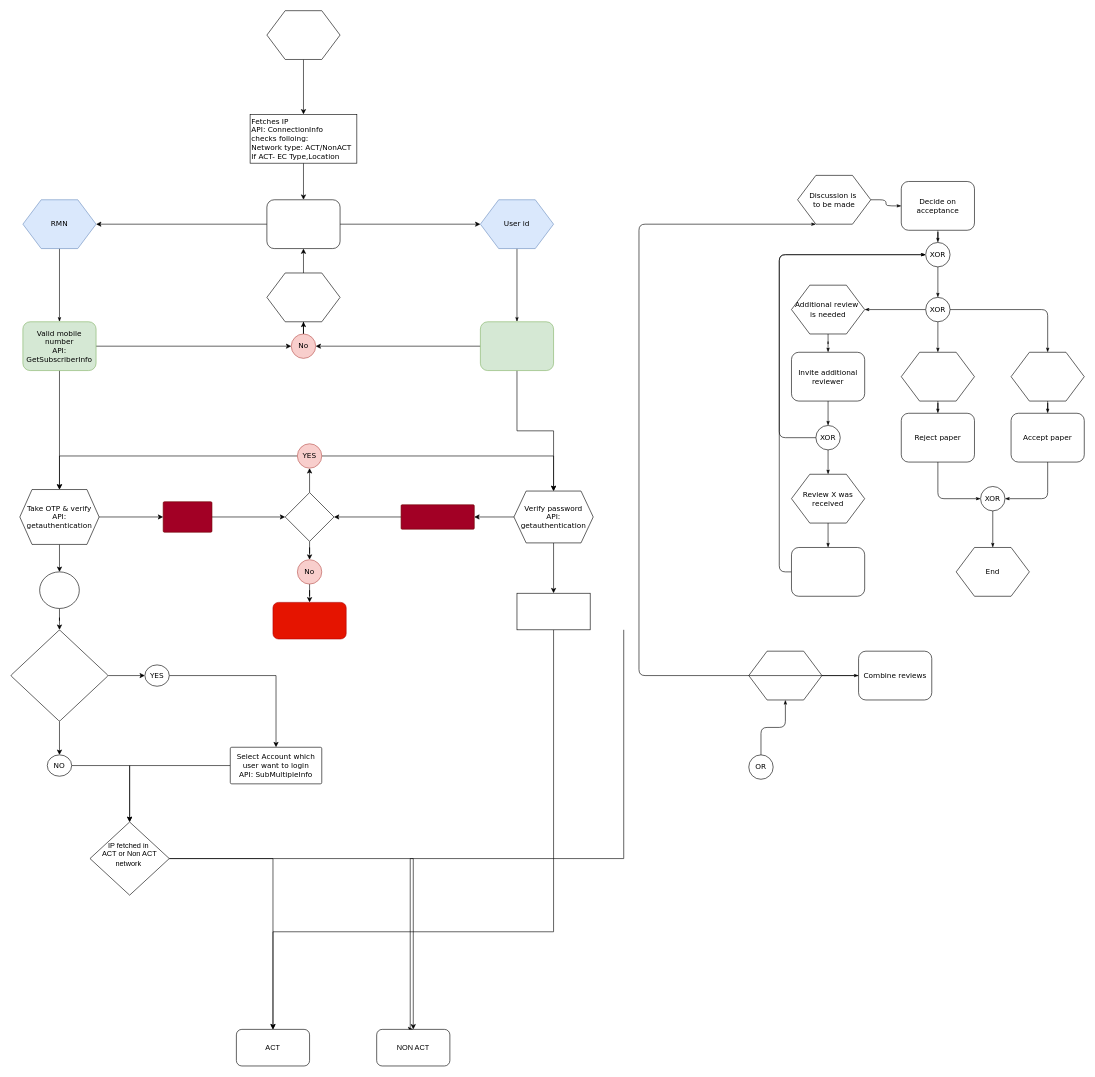
Some shapes in this 1095 by 1077 pixel diagram are drawn without their labels. The shapes that lost their labels are listed below. From the top down, each one's box as (x1, y1, x2, y2) in pixels, then its label:
(266, 10, 340, 59): USER
(266, 199, 340, 249): Login Page
(266, 272, 340, 322): Please enter valid credentials
(480, 321, 554, 371): Verify user id API: Getsubscriberinfo
(901, 352, 974, 401): Paper should be rejected
(1010, 352, 1084, 401): Paper should be accepted
(163, 501, 212, 532): Wrong OTP
(285, 492, 334, 541): attempts <5
(400, 504, 474, 529): Wrong password
(39, 571, 79, 608): Validate OTP
(791, 547, 865, 596): Combine review X with others
(272, 602, 346, 639): Lock enabled till EOD
(10, 629, 108, 721): Multiple accounts API: GetSubscriberInfo (But called during OTP generation)
(748, 651, 822, 700): Reviews are to be combined
